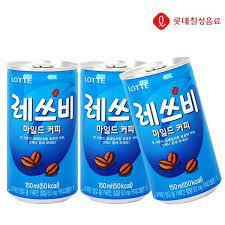letsbe: (124, 60, 223, 202), (8, 61, 78, 203), (79, 61, 140, 204)
